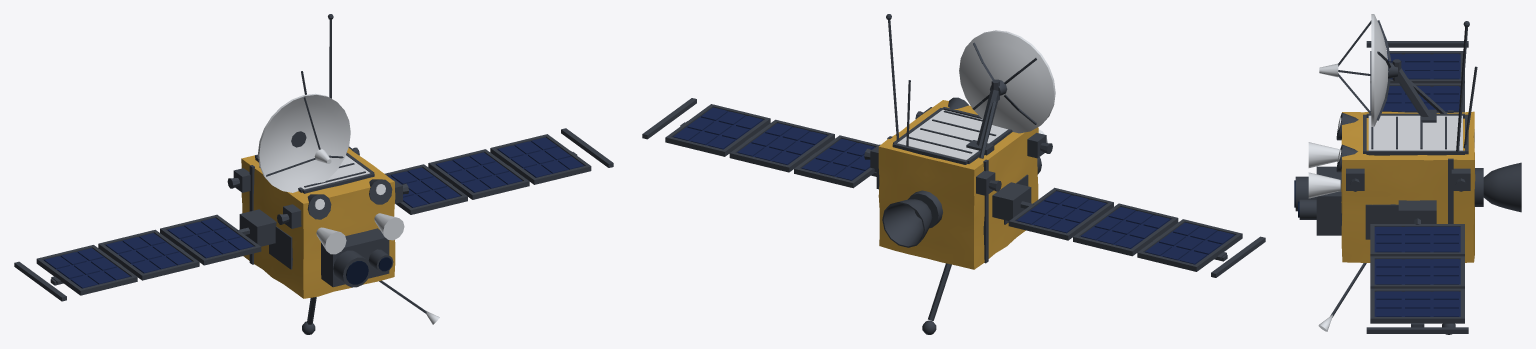
The model's file is satellite.glb.
3 renders of one model, left to right at view 1: azimuth 30°, elevation 25°; view 2: azimuth 150°, elevation 25°; view 3: azimuth 270°, elevation 25°, orthographic. The views are drawn at different scales.
Visible parts, largest first — view 1: BusDark, Wings, Bus, DishReflector, BusWhite, Optics, DishFeed; view 2: BusDark, Bus, Wings, DishReflector, BusWhite, DishFeed; view 3: BusDark, Wings, Bus, BusWhite, DishReflector, DishFeed.
Boxes of the visible parts, x1,y1,x2,y2 form: BusDark: [14, 14, 613, 334]; Wings: [43, 137, 584, 288]; Bus: [241, 147, 395, 298]; DishReflector: [258, 93, 350, 192]; BusWhite: [302, 155, 439, 324]; Optics: [346, 257, 391, 284]; DishFeed: [266, 97, 343, 176]; BusDark: [642, 14, 1265, 334]; Bus: [878, 100, 1038, 269]; Wings: [673, 107, 1235, 264]; DishReflector: [959, 30, 1055, 133]; BusWhite: [897, 109, 1047, 160]; DishFeed: [972, 42, 1036, 124]; BusDark: [1295, 21, 1521, 334]; Wings: [1374, 53, 1460, 316]; Bus: [1341, 111, 1475, 262]; BusWhite: [1308, 115, 1462, 331]; DishReflector: [1319, 14, 1388, 126]; DishFeed: [1338, 20, 1401, 120].
Size of the model in its own units: 0.7235 by 0.3845 by 0.2405.
